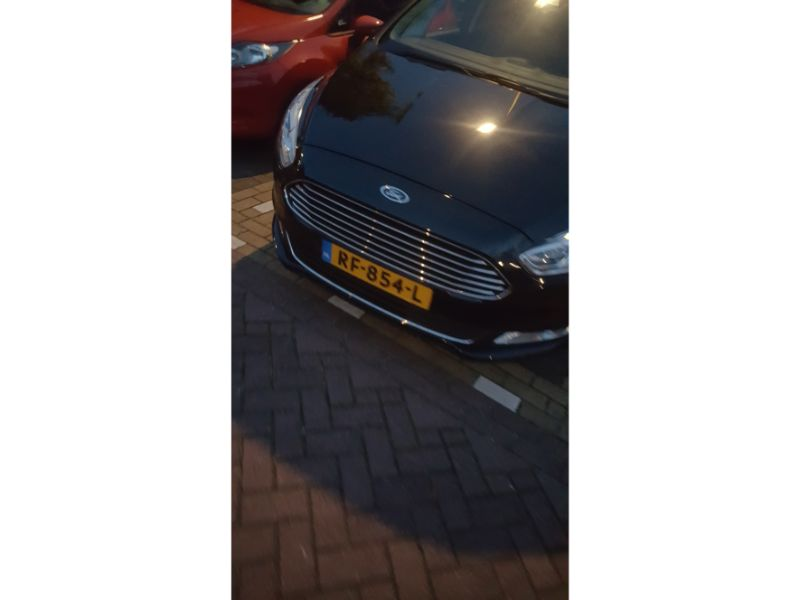kenteken: (318, 245, 433, 312)
